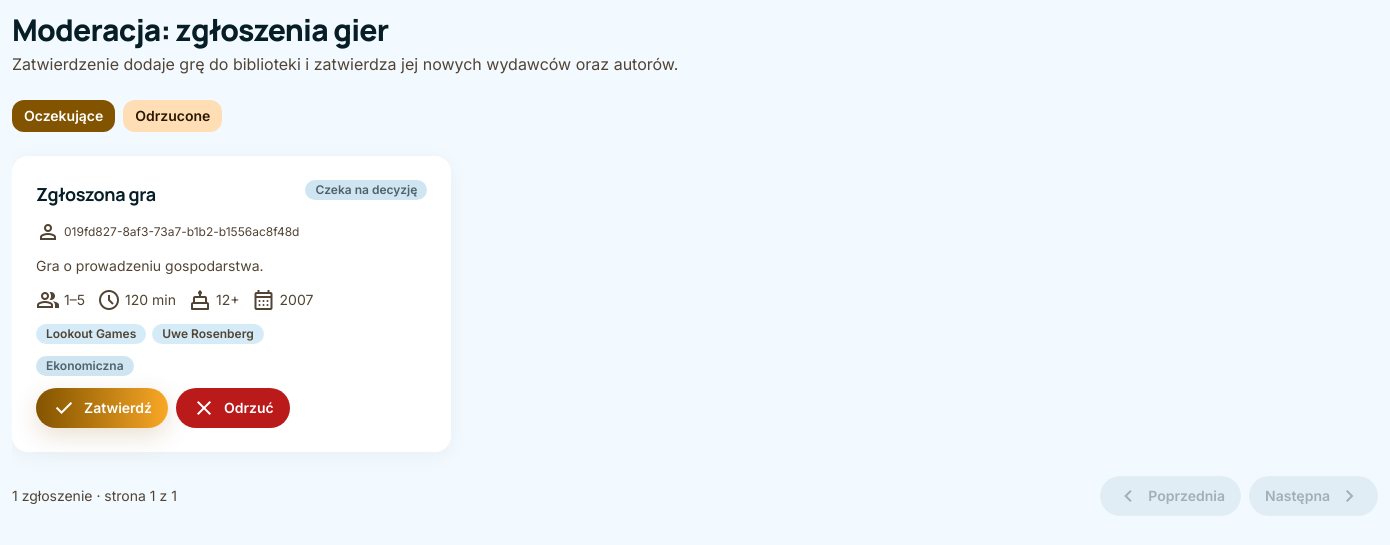
Test: GameModerationPage › przełącznik pokazuje kolejkę odrzuconych i pozwala odblokować
Click the button "Odrzucone". click: x=173, y=116
box: [123,100,222,132]
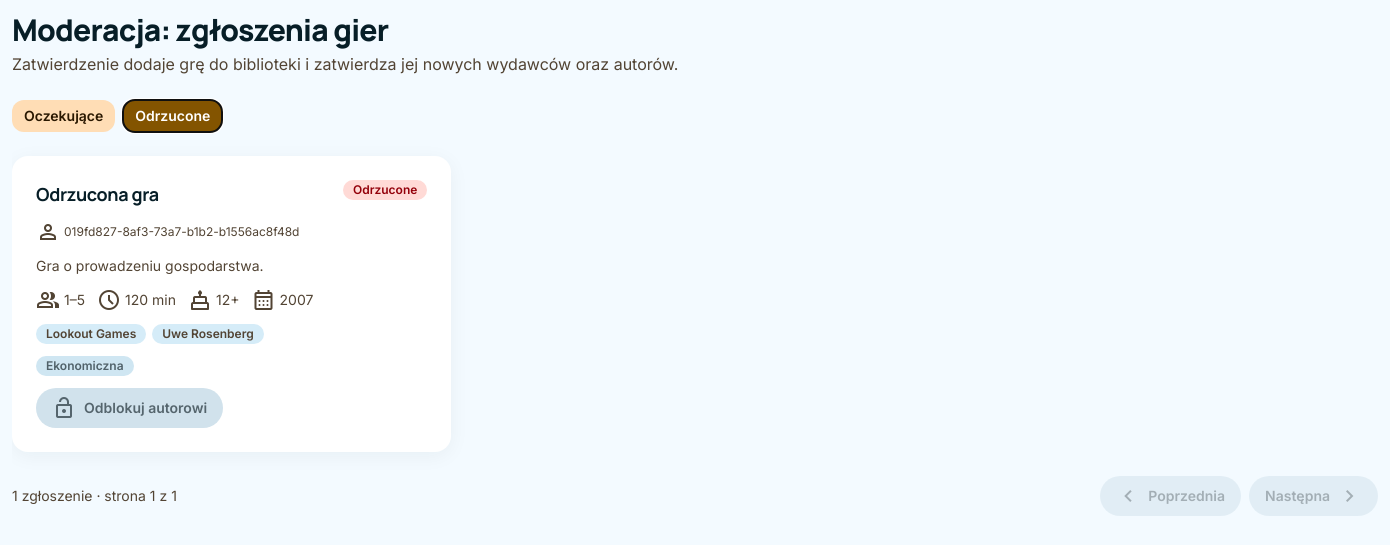
Result: the heading "Odrzucona gra" is shown at [36,180,159,208]
Result: the button "Zatwierdź" is gone
Click the button "Odblokuj autorowi". click: x=130, y=408
box: [36,388,223,428]
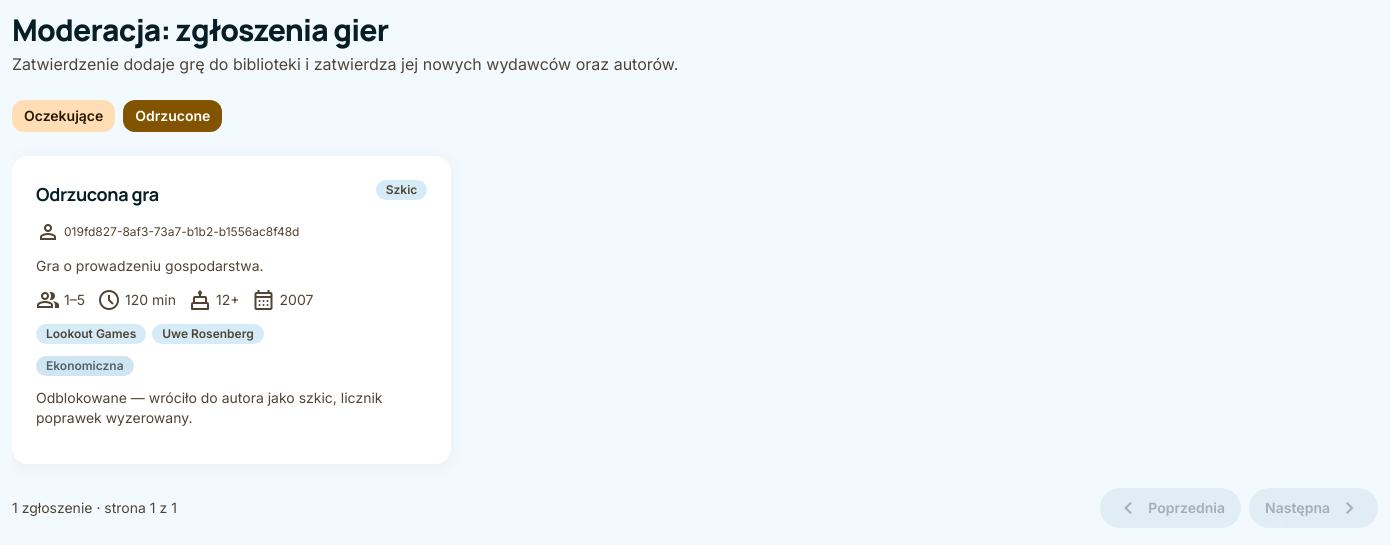
Result: the text "licznik poprawek wyzerowany" is shown at [36,389,382,426]
